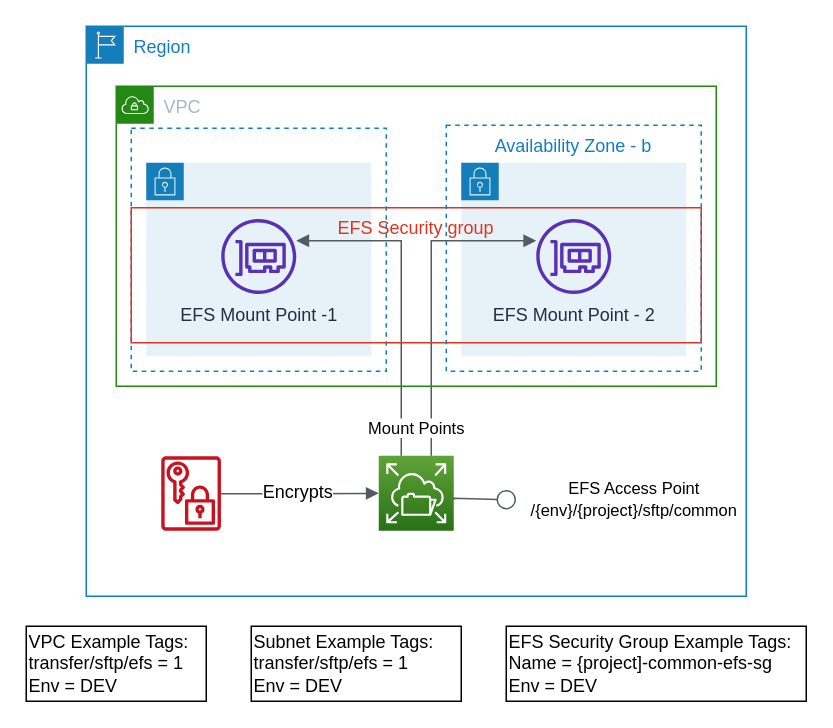
The diagram is 833 pixels wide and 728 high, and some of its shapes have lost their labels. Each missing label, with the box of its shape:
Availability Zone - a: (130, 127, 386, 371)
EFS {project}-common-efs: (377, 454, 454, 531)
KMS alias/{project}/efs: (160, 455, 220, 530)
Private subnet 1: (145, 161, 371, 356)
Private subnet 2: (460, 161, 686, 356)
